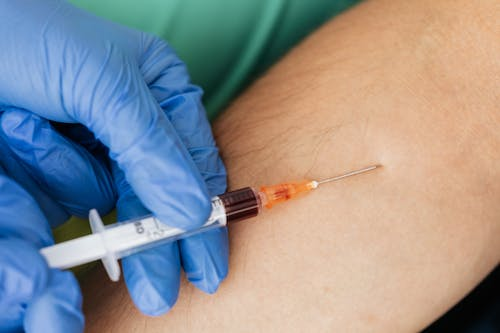blood: (215, 180, 317, 226)
